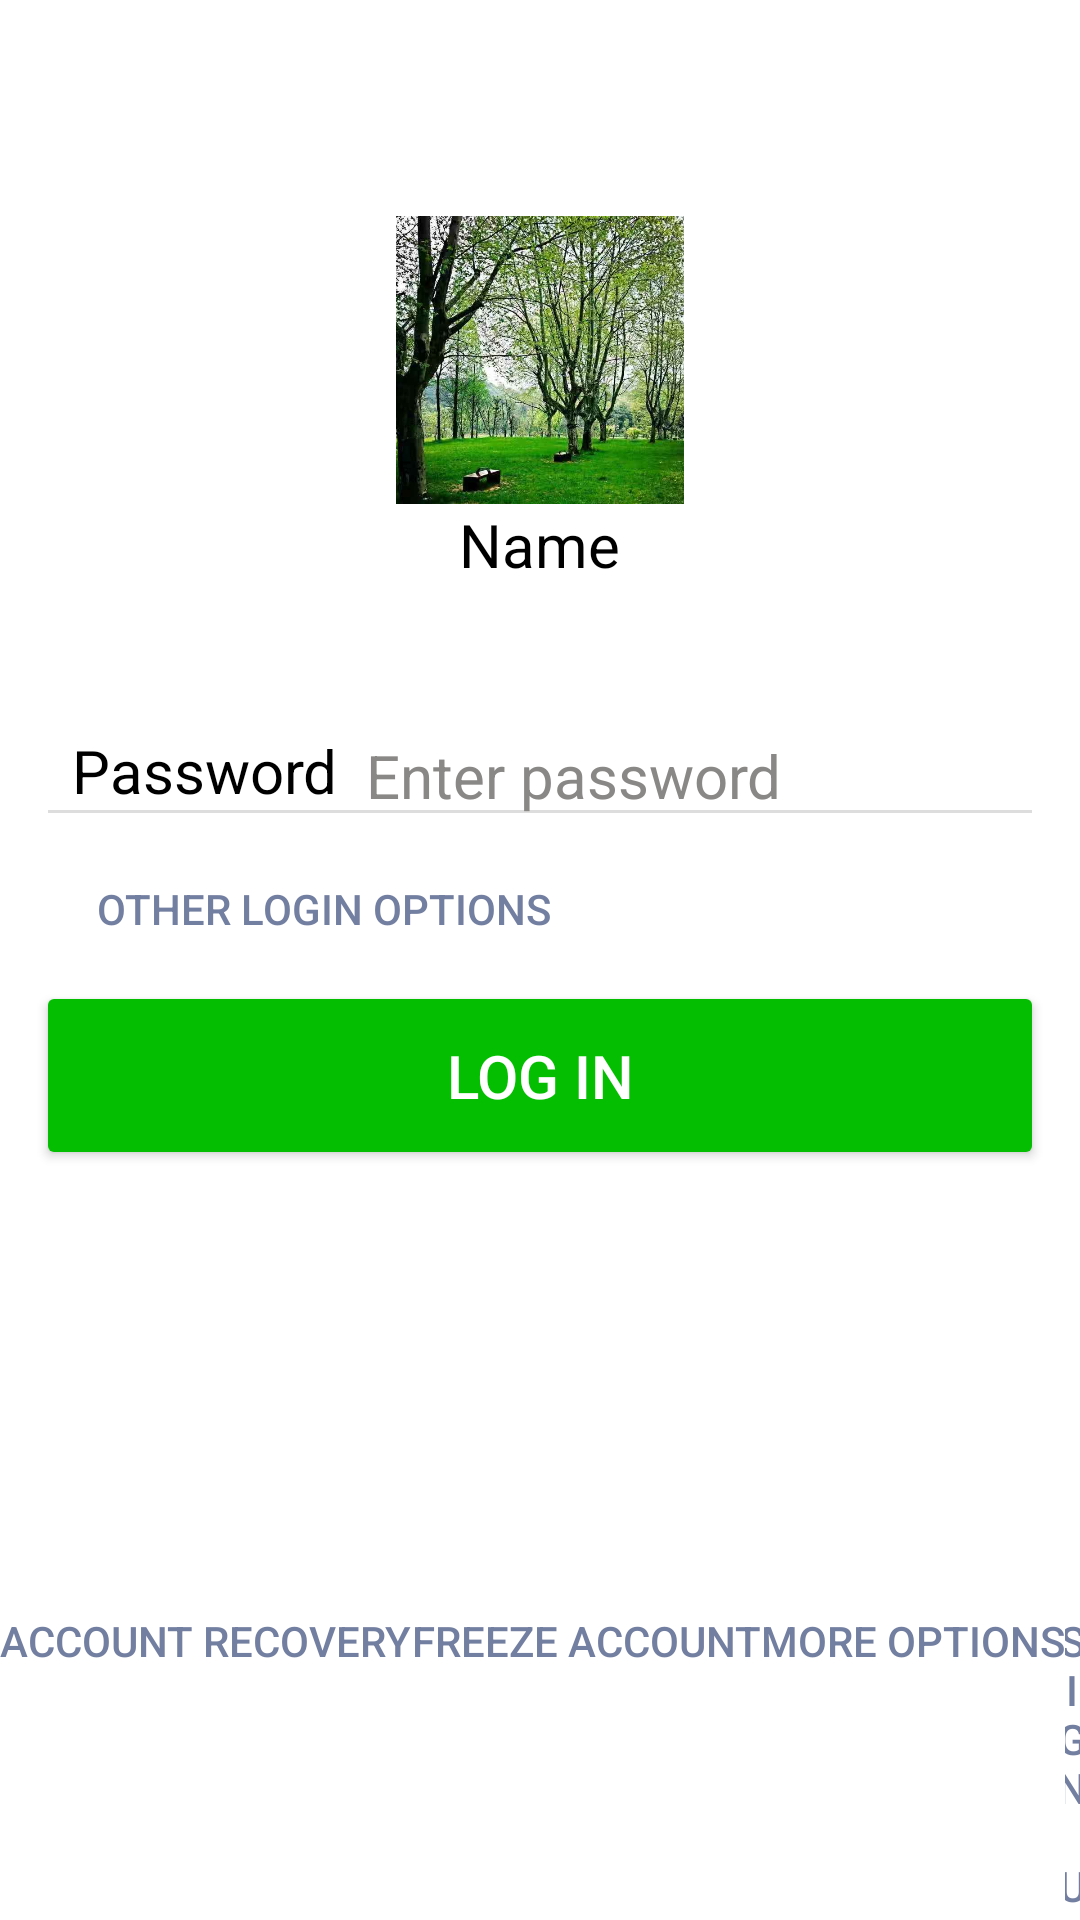

Locate icon controls on the screen. Image size 1080 × 1920, boxes as [x1,y1,x2,y2].
avatar: [396,216,684,504]
